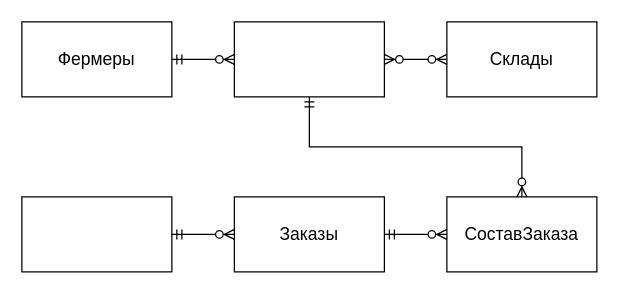
Image size: 619x294. Some labels were removed from this diagram. Here are the shapes that lost their labels. From the top down, the centre of each, then its label:
At point (308, 59): "Продукция".
At point (96, 234): "Покупатели".
